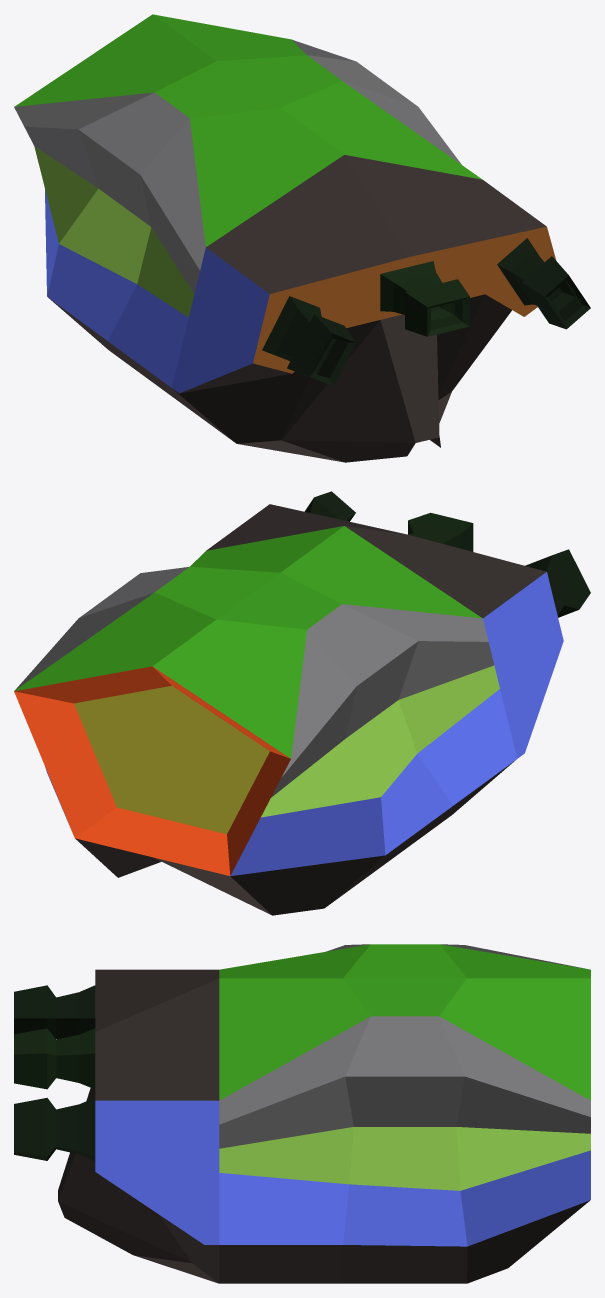
Rendered from Normaller.fbx.
3 views of the same model, one above another, from view 1: azimuth 30°, elevation 25°; view 2: azimuth 150°, elevation 25°; view 3: azimuth 270°, elevation 25° (orthographic). The views are drawn at different scales.
Visible parts, largest first — view 1: Cylinder, Cube, Cube.001; view 2: Cylinder, Cube, Cube.001; view 3: Cylinder, Cube, Cube.001.
Boxes of the visible parts, box(x1,y1,x2,y2) form: Cylinder: box(14, 14, 556, 462); Cube: box(262, 238, 590, 385); Cube.001: box(380, 261, 469, 336); Cylinder: box(14, 504, 563, 915); Cube: box(304, 491, 590, 617); Cube.001: box(408, 512, 473, 551); Cylinder: box(58, 944, 590, 1283); Cube: box(14, 985, 95, 1160); Cube.001: box(14, 1028, 95, 1089).
Size of the model in its own units: 1.95 by 2.91 by 1.43.
